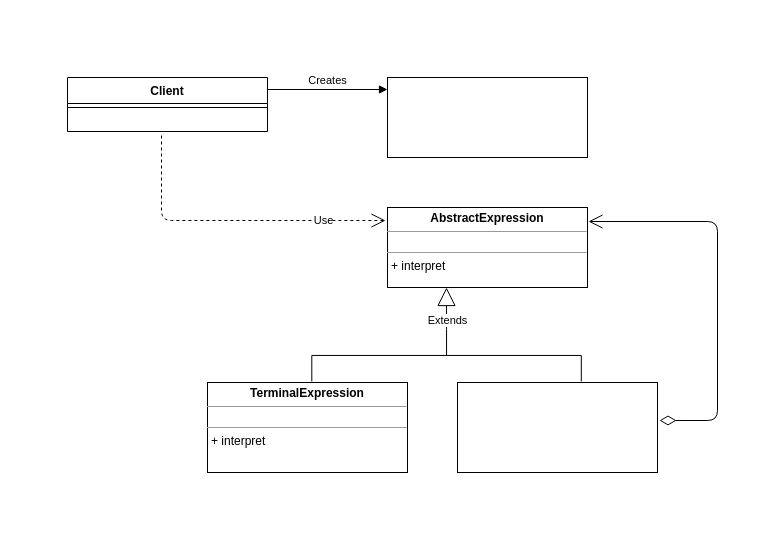
The diagram is 784 pixels wide and 534 high, and some of its shapes have lost their labels. The shapes that lost their labels are listed below. From the top down, each one's centre as x and y in pixels, then its label:
At point (487, 117): "Context + getInfoToInterpret".
At point (557, 427): "NonTerminalExpression childExpression + interpret".
